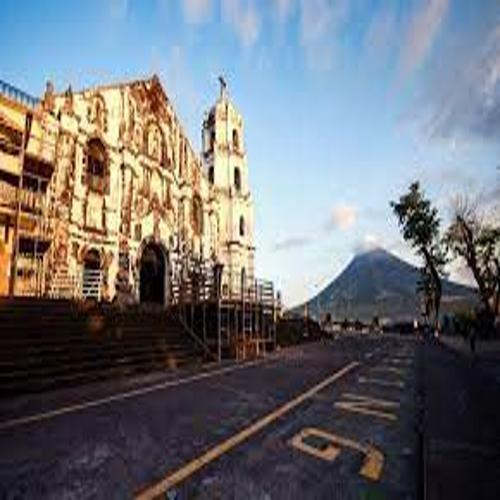Daraga Church: (38, 59, 263, 314)
